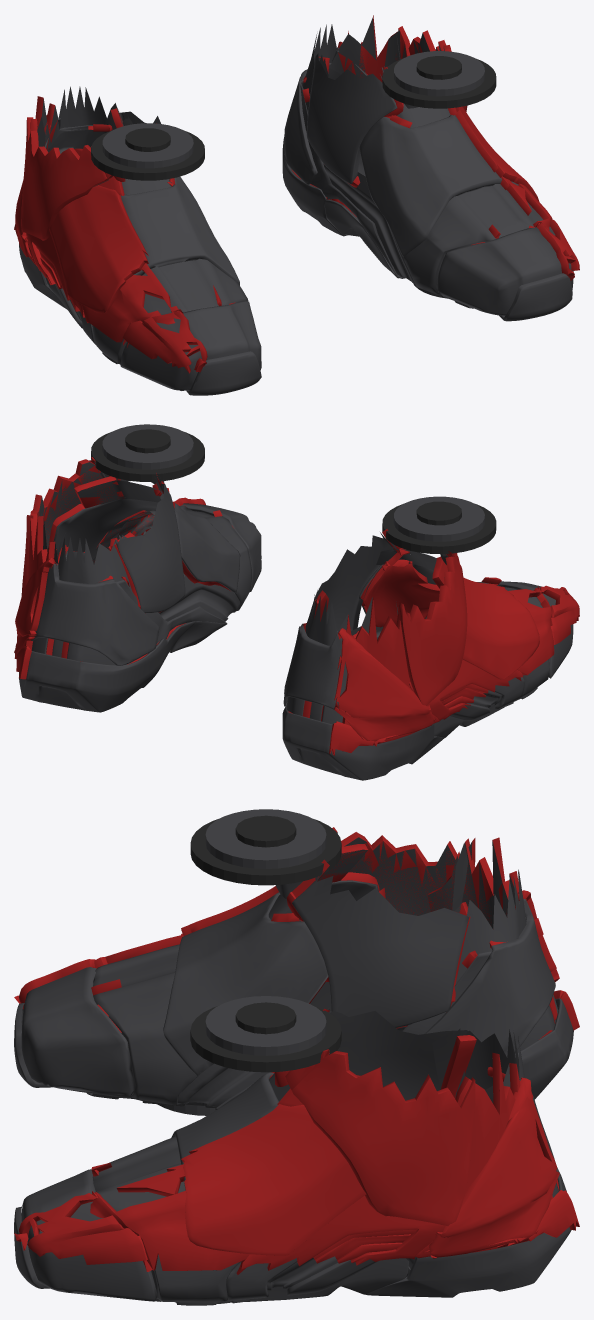
Rendered from boots.glb.
The picture shows the model from 3 angles, top to bottom: view 1: azimuth 30°, elevation 25°; view 2: azimuth 150°, elevation 25°; view 3: azimuth 270°, elevation 25°; orthographic projection. The views are drawn at different scales.
Visible parts, largest first — view 1: Boot_L, Boot_R, Boot_R.001, Boot_L.001, Cylinder.004, Cylinder.001, Cylinder, Cylinder.003, Cylinder.005, Cylinder.002; view 2: Boot_L, Boot_R.001, Boot_R, Boot_L.001, Cylinder.001, Cylinder.004, Cylinder.003, Cylinder, Cylinder.005, Cylinder.002; view 3: Boot_R, Boot_L.001, Boot_L, Boot_R.001, Cylinder.001, Cylinder.004, Cylinder.003, Cylinder, Cylinder.002, Cylinder.005.
Part boxes in pixels (box(x1,y1,x2,y2)): Boot_L: box(282, 18, 573, 321); Boot_R: box(19, 86, 261, 395); Boot_R.001: box(14, 96, 235, 373); Boot_L.001: box(291, 15, 579, 280); Cylinder.004: box(102, 123, 193, 168); Cylinder.001: box(394, 51, 484, 96); Cylinder: box(382, 58, 496, 108); Cylinder.003: box(91, 130, 204, 180); Cylinder.005: box(125, 128, 170, 151); Cylinder.002: box(416, 56, 461, 79); Boot_L: box(19, 460, 261, 712); Boot_R.001: box(288, 529, 579, 755); Boot_R: box(282, 532, 573, 780); Boot_L.001: box(14, 457, 233, 679); Cylinder.001: box(102, 424, 193, 469); Cylinder.004: box(393, 496, 484, 541); Cylinder.003: box(382, 503, 496, 553); Cylinder: box(91, 432, 204, 481); Cylinder.005: box(416, 501, 461, 525); Cylinder.002: box(125, 429, 170, 453); Boot_R: box(14, 832, 573, 1115); Boot_L.001: box(14, 1008, 579, 1274); Boot_L: box(14, 1008, 571, 1305); Boot_R.001: box(14, 827, 579, 1039); Cylinder.001: box(205, 996, 326, 1055); Cylinder.004: box(205, 809, 326, 868); Cylinder.003: box(190, 819, 341, 885); Cylinder: box(190, 1005, 341, 1072); Cylinder.002: box(235, 1002, 296, 1034); Cylinder.005: box(235, 815, 296, 847).
Size of the model in its own units: 0.0149 by 0.00637 by 0.0125.
